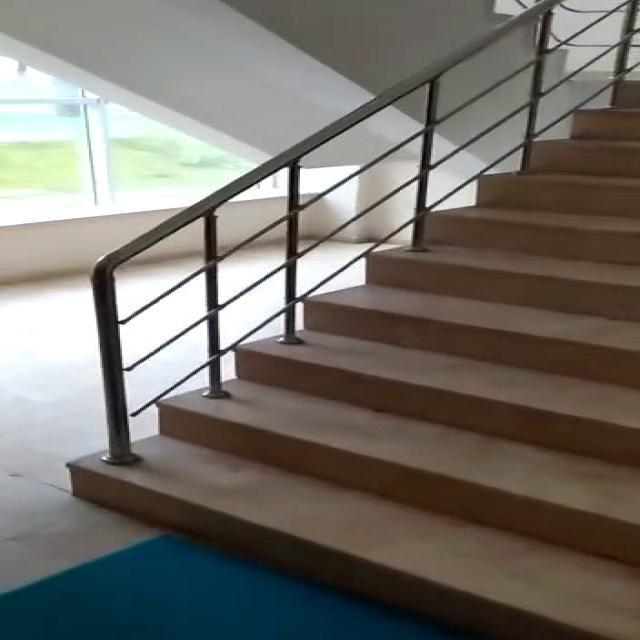stair: (55, 52, 640, 640)
